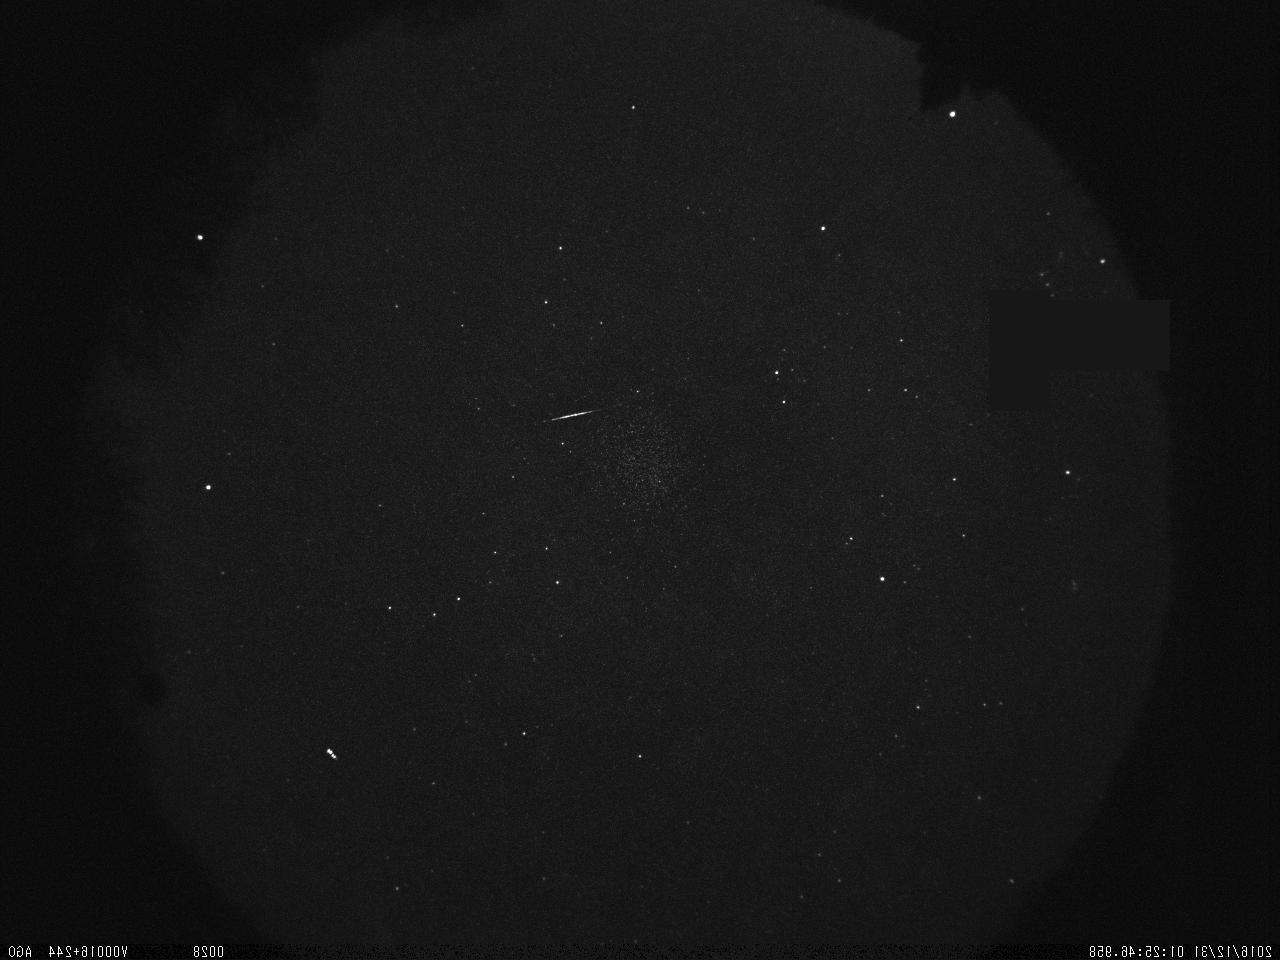meteor: (535, 392, 612, 432)
